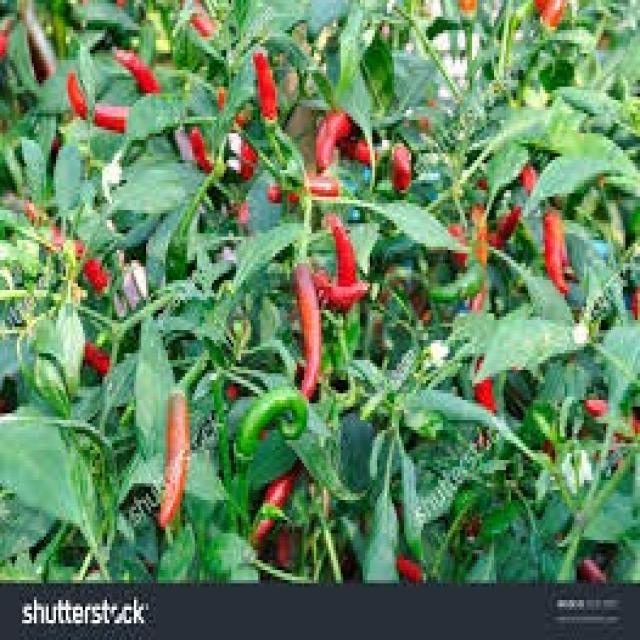Mosaic_virus: (2, 0, 637, 564)
